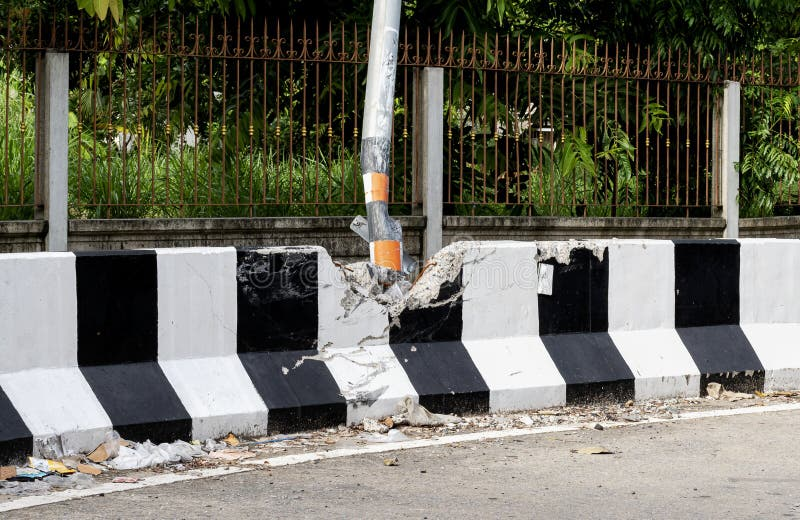damaged: (258, 211, 513, 447)
not_damaged: (10, 238, 201, 466), (681, 225, 793, 397)
